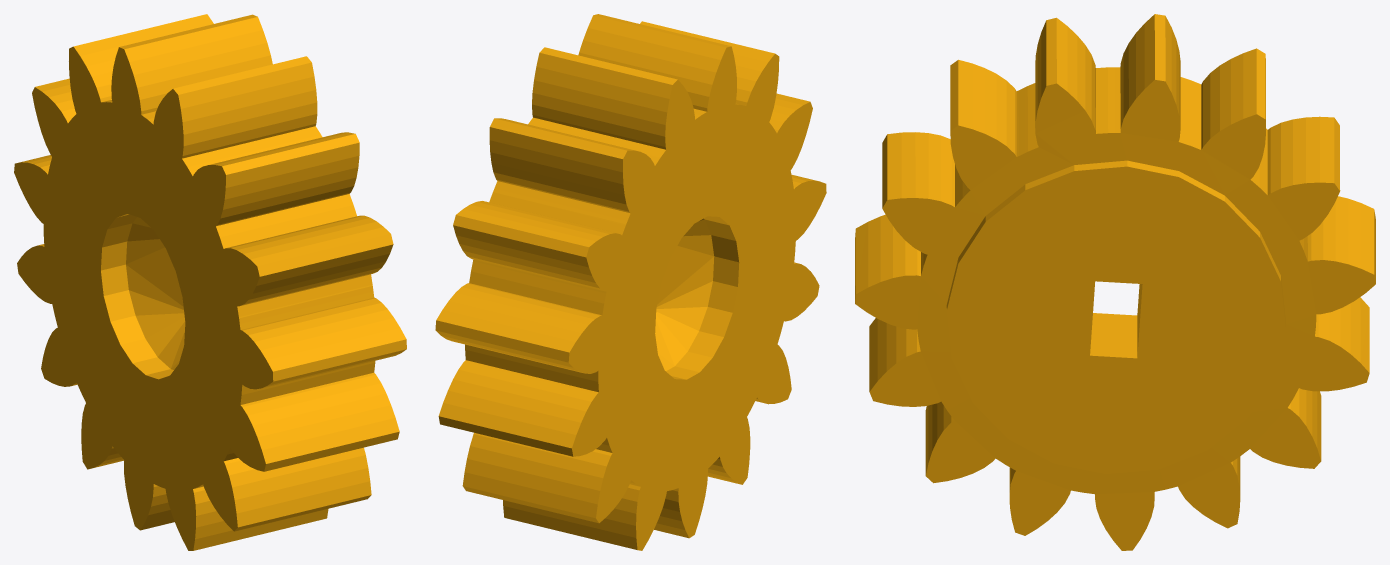
Rendered from left_shoulder_z_link_visual_10.obj.
3 renders of one model, left to right at view 1: azimuth 30°, elevation 25°; view 2: azimuth 150°, elevation 25°; view 3: azimuth 270°, elevation 25°, orthographic.
Parts seen in each view (by area): view 1: i01.leftArm.rotate.full.011_visual.001; view 2: i01.leftArm.rotate.full.011_visual.001; view 3: i01.leftArm.rotate.full.011_visual.001.
Part boxes in pixels (bbox=[...]): i01.leftArm.rotate.full.011_visual.001: bbox=[14, 14, 406, 550]; i01.leftArm.rotate.full.011_visual.001: bbox=[435, 14, 826, 550]; i01.leftArm.rotate.full.011_visual.001: bbox=[855, 14, 1375, 550].
Bounding box in the file's own units: 0.0675 × 0.2062 × 0.2064.
